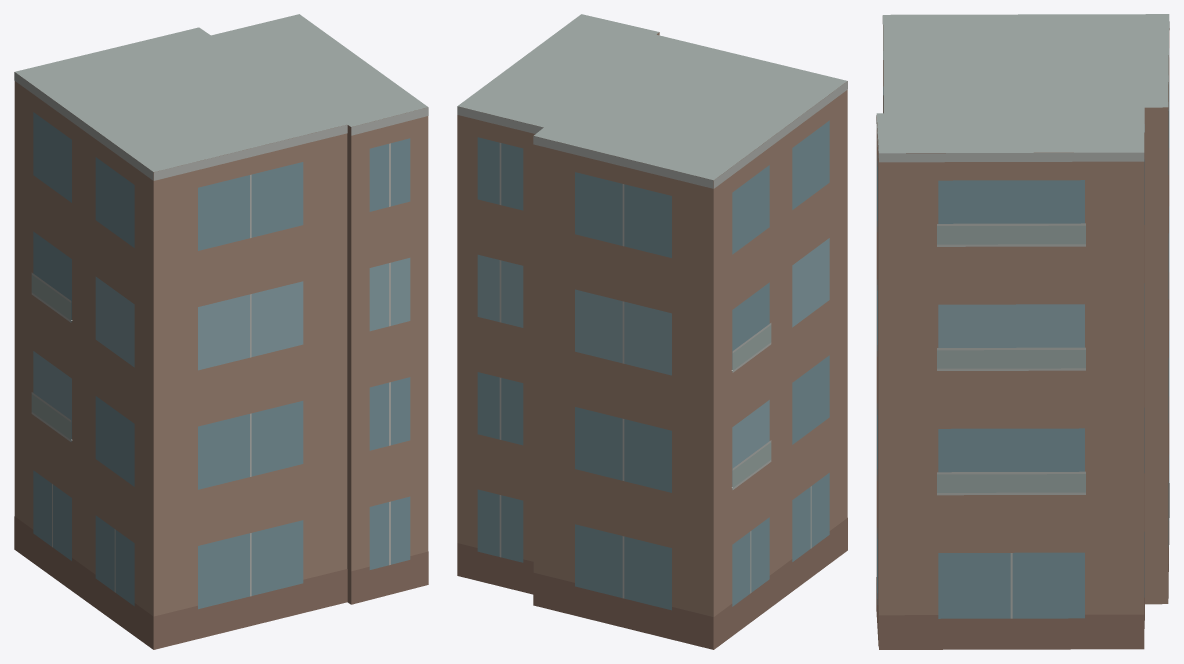
The model's file is survey-upis-33012922.glb.
3 views of the same model, side by side, from view 1: azimuth 30°, elevation 25°; view 2: azimuth 150°, elevation 25°; view 3: azimuth 270°, elevation 25° (orthographic). The views are drawn at different scales.
Parts seen in each view (by area): view 1: survey-upis-33012922.tmp; view 2: survey-upis-33012922.tmp; view 3: survey-upis-33012922.tmp.
Part boxes in pixels (bbox=[...]): survey-upis-33012922.tmp: bbox=[14, 14, 428, 649]; survey-upis-33012922.tmp: bbox=[457, 14, 847, 649]; survey-upis-33012922.tmp: bbox=[876, 14, 1169, 649].
Size of the model in its own units: 8.03 by 13.25 by 7.09.
